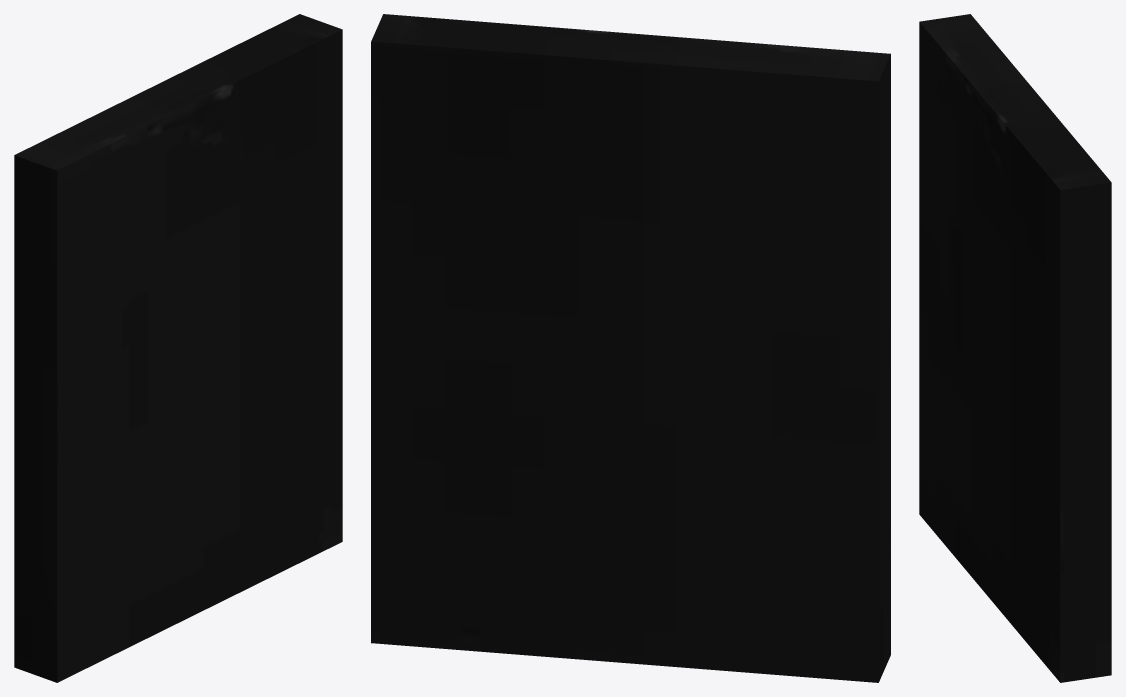
Rendered from backrest__back_hinge_plate.glb.
3 views of the same model, side by side, from view 1: azimuth 30°, elevation 25°; view 2: azimuth 150°, elevation 25°; view 3: azimuth 270°, elevation 25° (orthographic). The views are drawn at different scales.
Parts seen in each view (by area): view 1: world; view 2: world; view 3: world.
Part boxes in pixels (x1,y1,x2,y2): world: (14,14,342,682); world: (371,14,890,682); world: (919,14,1111,682).
Bounding box in the file's own units: 0.138 × 0.18 × 0.0637.
Materials: 1 (1 with a texture image).
